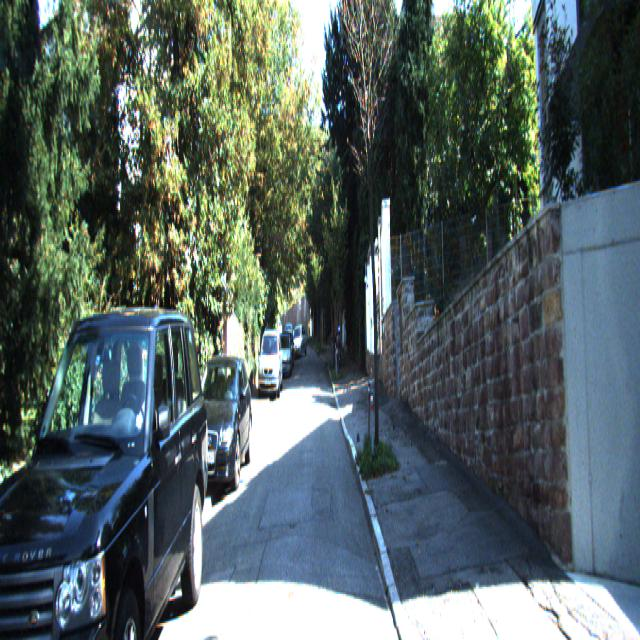Car: (0, 278, 210, 638), (184, 346, 252, 506), (258, 328, 284, 404), (277, 330, 293, 380), (290, 323, 308, 360)
